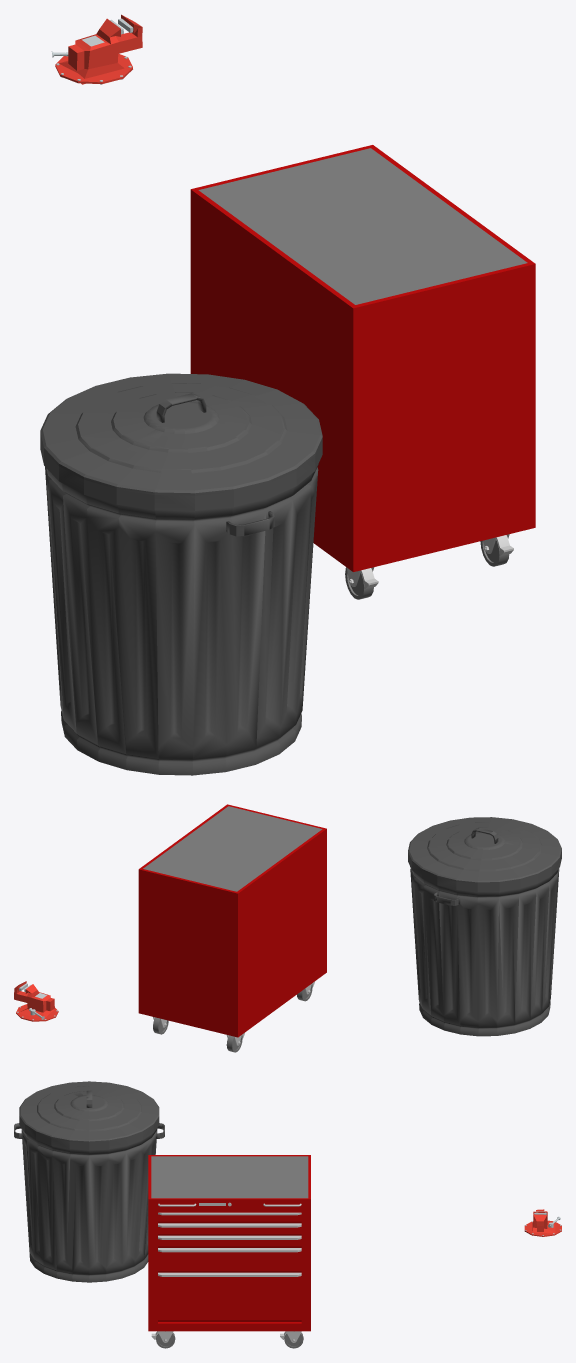
The model's file is Decors_5.glb.
3 views of the same model, one above another, from view 1: azimuth 30°, elevation 25°; view 2: azimuth 150°, elevation 25°; view 3: azimuth 270°, elevation 25° (orthographic). The views are drawn at different scales.
Parts seen in each view (by area): view 1: TooldBox, Garbage_Bin, Vice Clamp; view 2: TooldBox, Garbage_Bin, Vice Clamp; view 3: TooldBox, Garbage_Bin, Vice Clamp.
Boxes of the visible parts, x1,y1,x2,y2 form: TooldBox: (190, 145, 535, 599); Garbage_Bin: (40, 373, 322, 775); Vice Clamp: (51, 14, 142, 84); TooldBox: (138, 804, 326, 1052); Garbage_Bin: (408, 817, 561, 1036); Vice Clamp: (14, 981, 58, 1021); TooldBox: (148, 1155, 310, 1348); Garbage_Bin: (14, 1081, 164, 1282); Vice Clamp: (524, 1209, 561, 1236).
Bounding box in the file's own units: 3.37 × 1.94 × 5.9.
